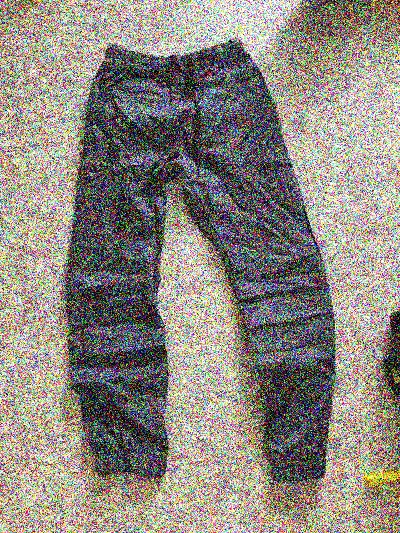Pants: (37, 37, 371, 484)
